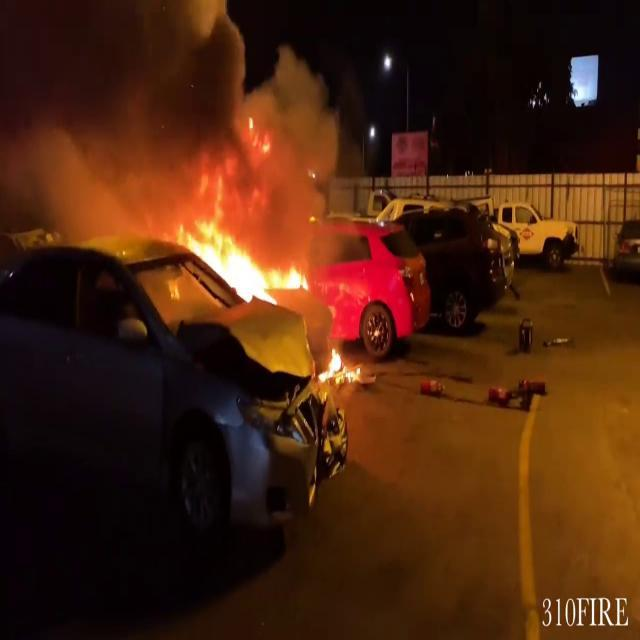Fire: (173, 210, 310, 308), (320, 344, 362, 388)
Smoke: (0, 0, 355, 231)
